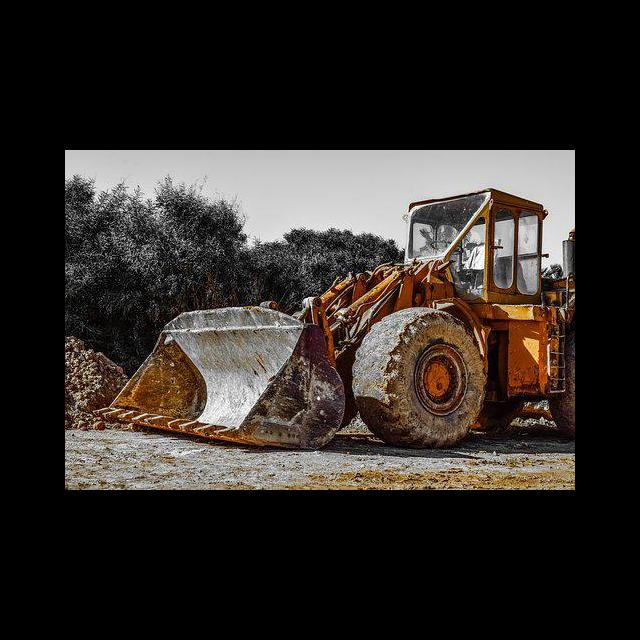wheel loader: (94, 184, 574, 451)
